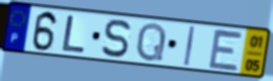6: (31, 10, 60, 53)
E: (207, 27, 246, 73)
I: (182, 24, 197, 68)
L: (60, 14, 87, 54)
Q: (134, 21, 168, 63)
S: (100, 18, 133, 59)
